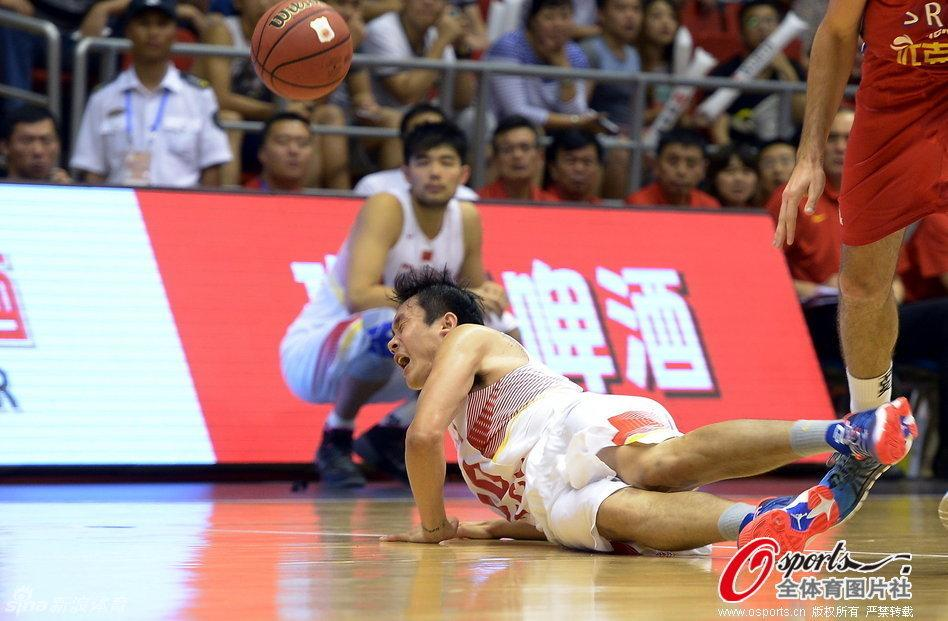bending: (269, 110, 513, 487)
down: (370, 272, 912, 584)
